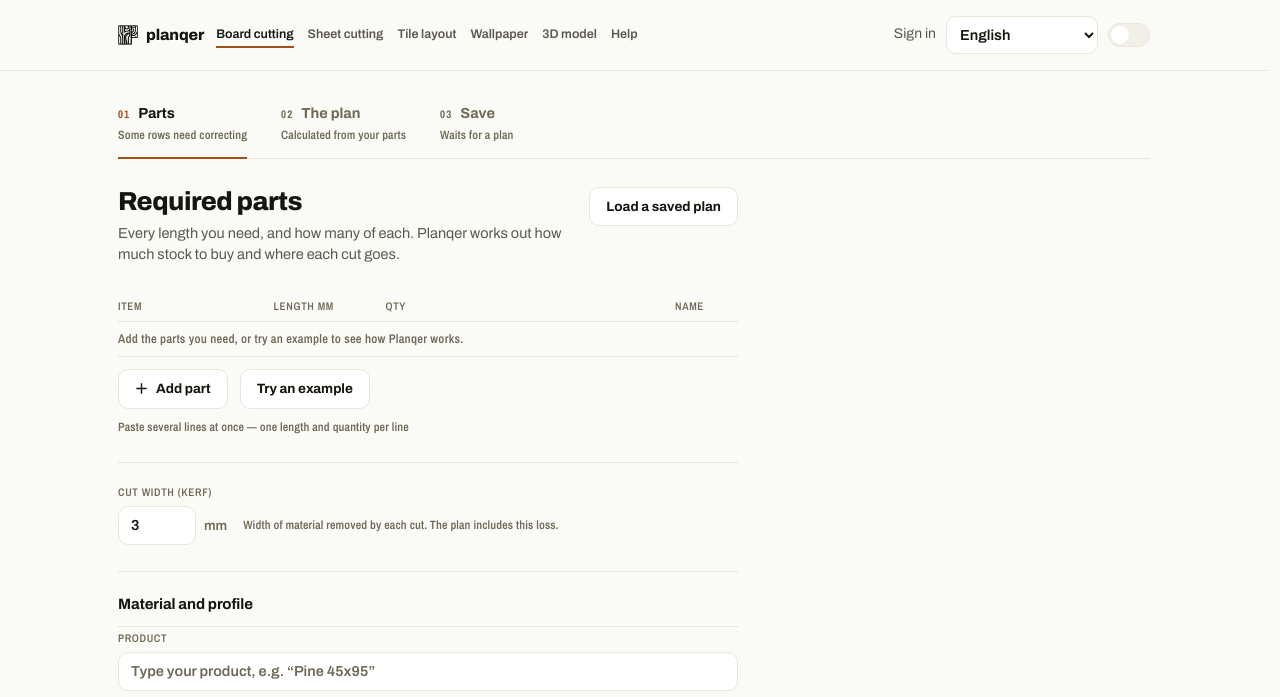
Scenario: CuttingOptimizer › starts with no required parts and offers an example
The image size is (1280, 697).
Expected: the heading "Required parts" is shown, x1=118 y1=187 x2=302 y2=215
Expected: the text "Add the parts you need" is shown, x1=118 y1=330 x2=463 y2=347
Click the button "Try an example".
click(305, 389)  # box x1=240 y1=369 x2=370 y2=409
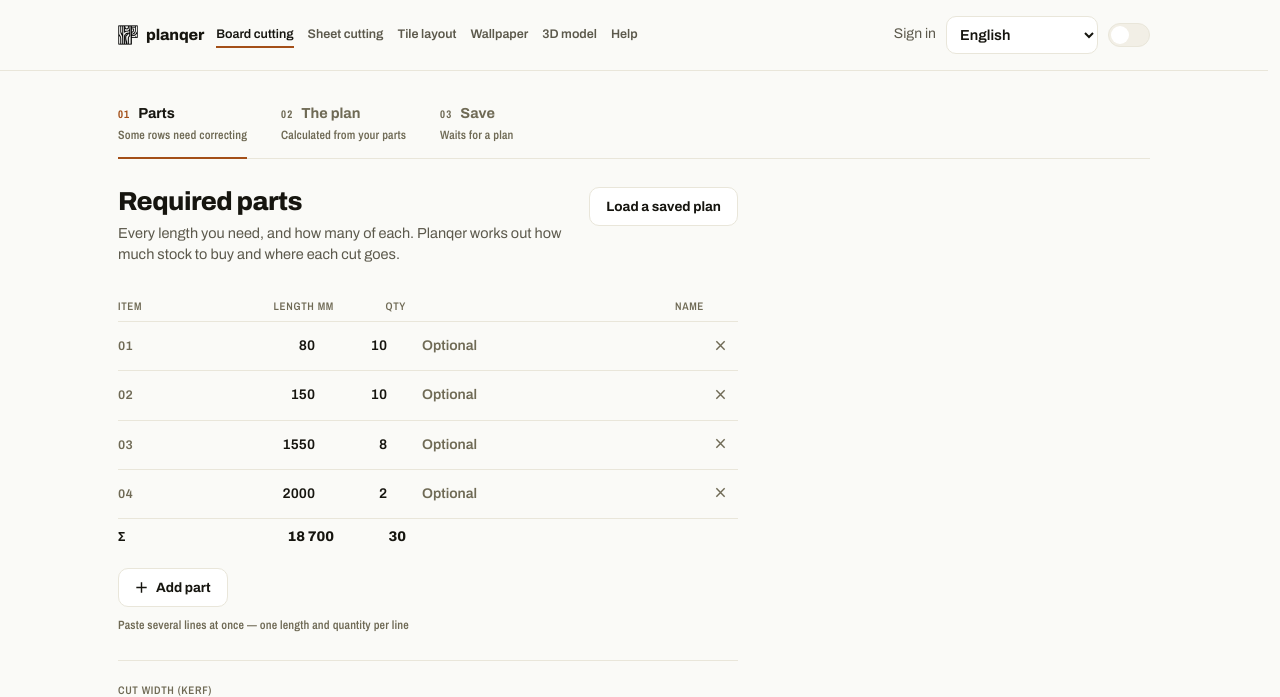
Result: the number field showing "80" is shown at x1=238 y1=331 x2=334 y2=361
